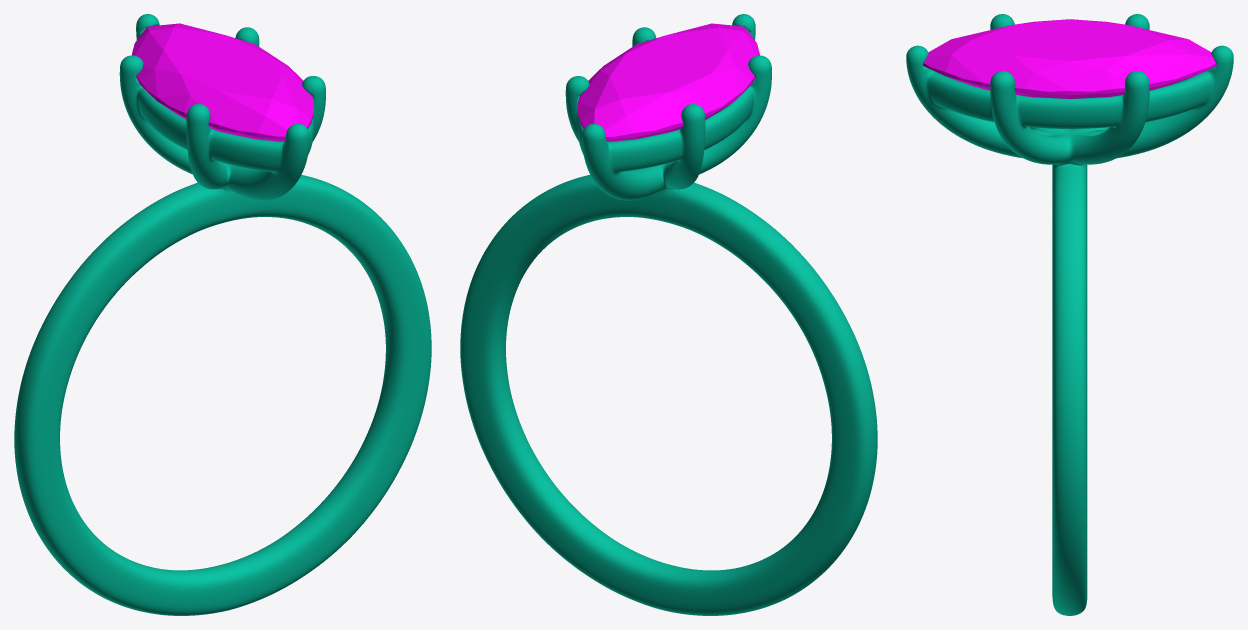
File: BE17651_MQ_200ct_RENDER.glb
3 renders of one model, left to right at view 1: azimuth 30°, elevation 25°; view 2: azimuth 150°, elevation 25°; view 3: azimuth 270°, elevation 25°, orthographic.
Visible parts, largest first — view 1: Metal 01, CS_Diamond_Marquise; view 2: Metal 01, CS_Diamond_Marquise; view 3: Metal 01, CS_Diamond_Marquise.
Part boxes in pixels (x1,y1,x2,y2): Metal 01: [14, 14, 431, 615]; CS_Diamond_Marquise: [132, 23, 313, 141]; Metal 01: [460, 14, 877, 615]; CS_Diamond_Marquise: [578, 23, 759, 141]; Metal 01: [906, 14, 1233, 615]; CS_Diamond_Marquise: [923, 19, 1216, 98].
Size of the model in its own units: 20.47 by 25.96 by 13.92.
